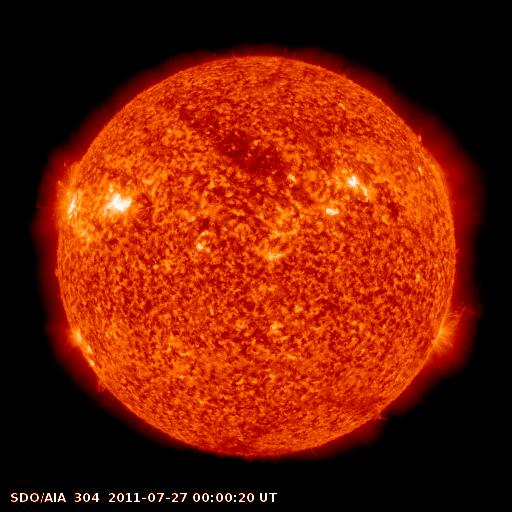prominence: (431, 298, 475, 355), (86, 371, 117, 400)
